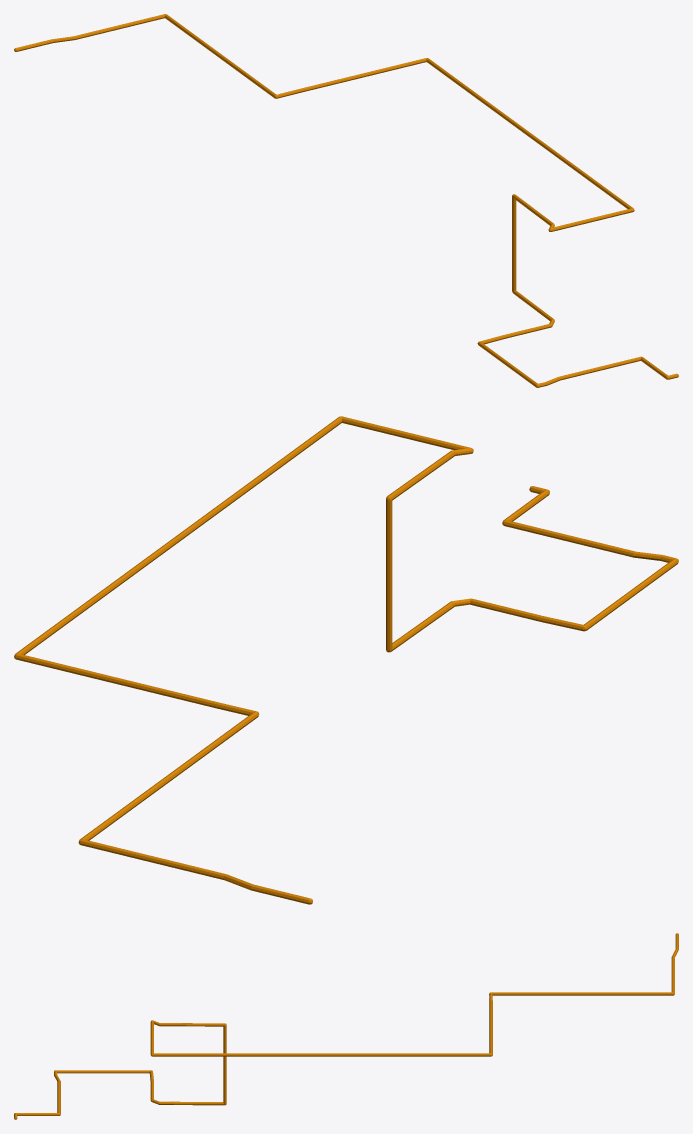
The picture shows the model from 3 angles, top to bottom: view 1: azimuth 30°, elevation 25°; view 2: azimuth 150°, elevation 25°; view 3: azimuth 270°, elevation 25°; orthographic projection. The views are drawn at different scales.
Bounding box in the file's own units: 1656 × 520 × 3827.
